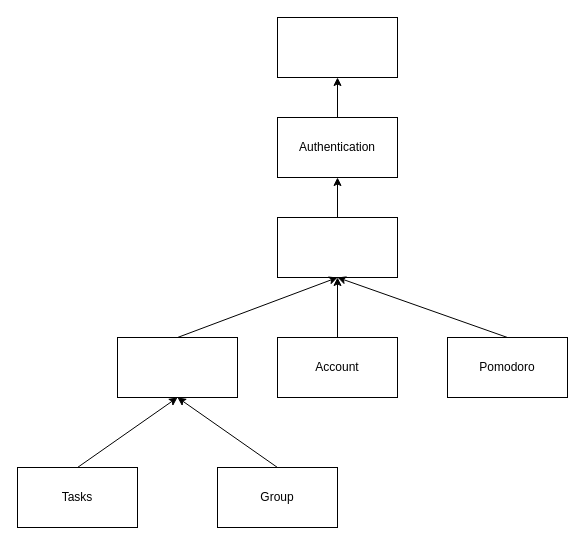
The diagram is 585 pixels wide and 545 high, and some of its shapes have lost their labels. Each missing label, with the box of its shape:
App: (276, 16, 398, 78)
Notify: (276, 216, 398, 278)
Tasks list: (116, 336, 238, 398)
